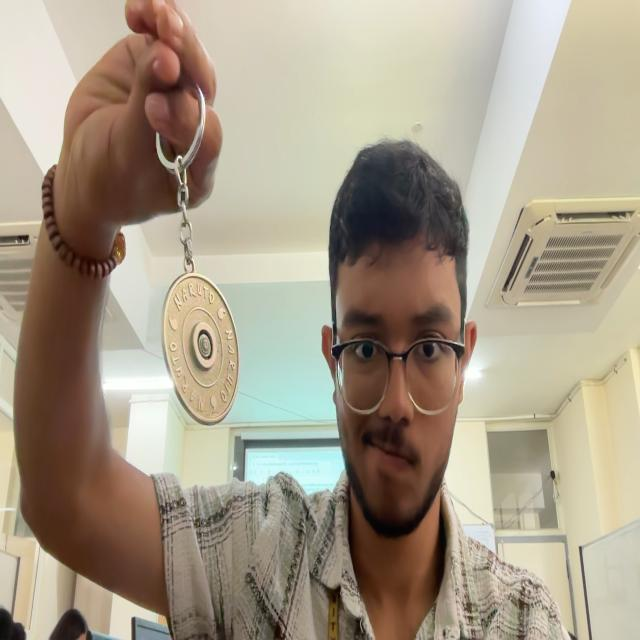dangerous: (156, 87, 239, 425)
